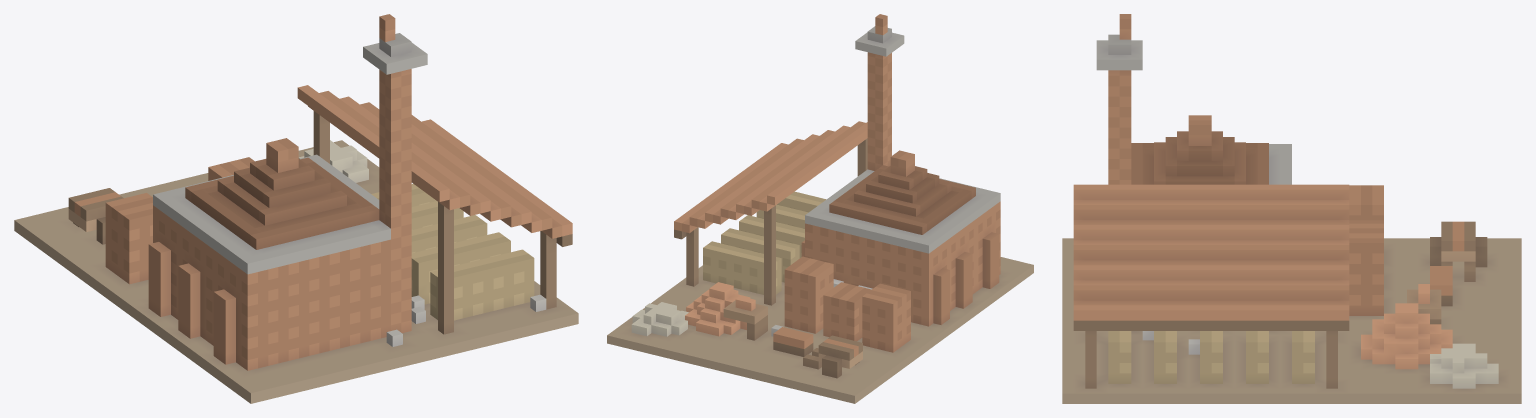
The model's file is brickworks.glb.
3 renders of one model, left to right at view 1: azimuth 30°, elevation 25°; view 2: azimuth 150°, elevation 25°; view 3: azimuth 270°, elevation 25°, orthographic. The views are drawn at different scales.
Parts seen in each view (by area): view 1: brickworks; view 2: brickworks; view 3: brickworks.
Boxes of the visible parts, x1,y1,x2,y2 form: brickworks: (14,14,578,403); brickworks: (607,14,1033,403); brickworks: (1062,14,1521,403).
Size of the model in its own units: 4 by 3.75 by 5.
